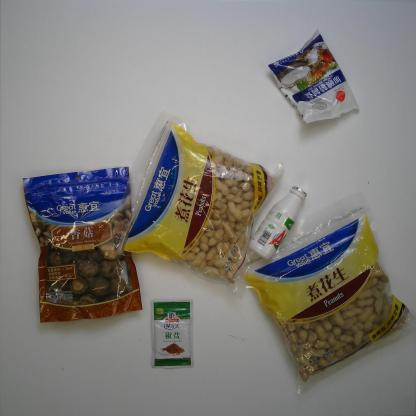Dried Food: (230, 192, 416, 396), (96, 110, 285, 299), (22, 165, 144, 324)
Milk: (248, 185, 308, 264)
Seasoner: (269, 29, 360, 125), (151, 298, 195, 368)
